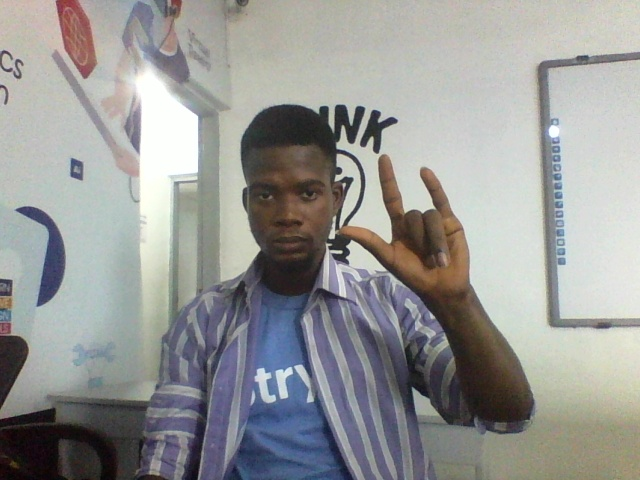i_love_you: (335, 152, 476, 300)
